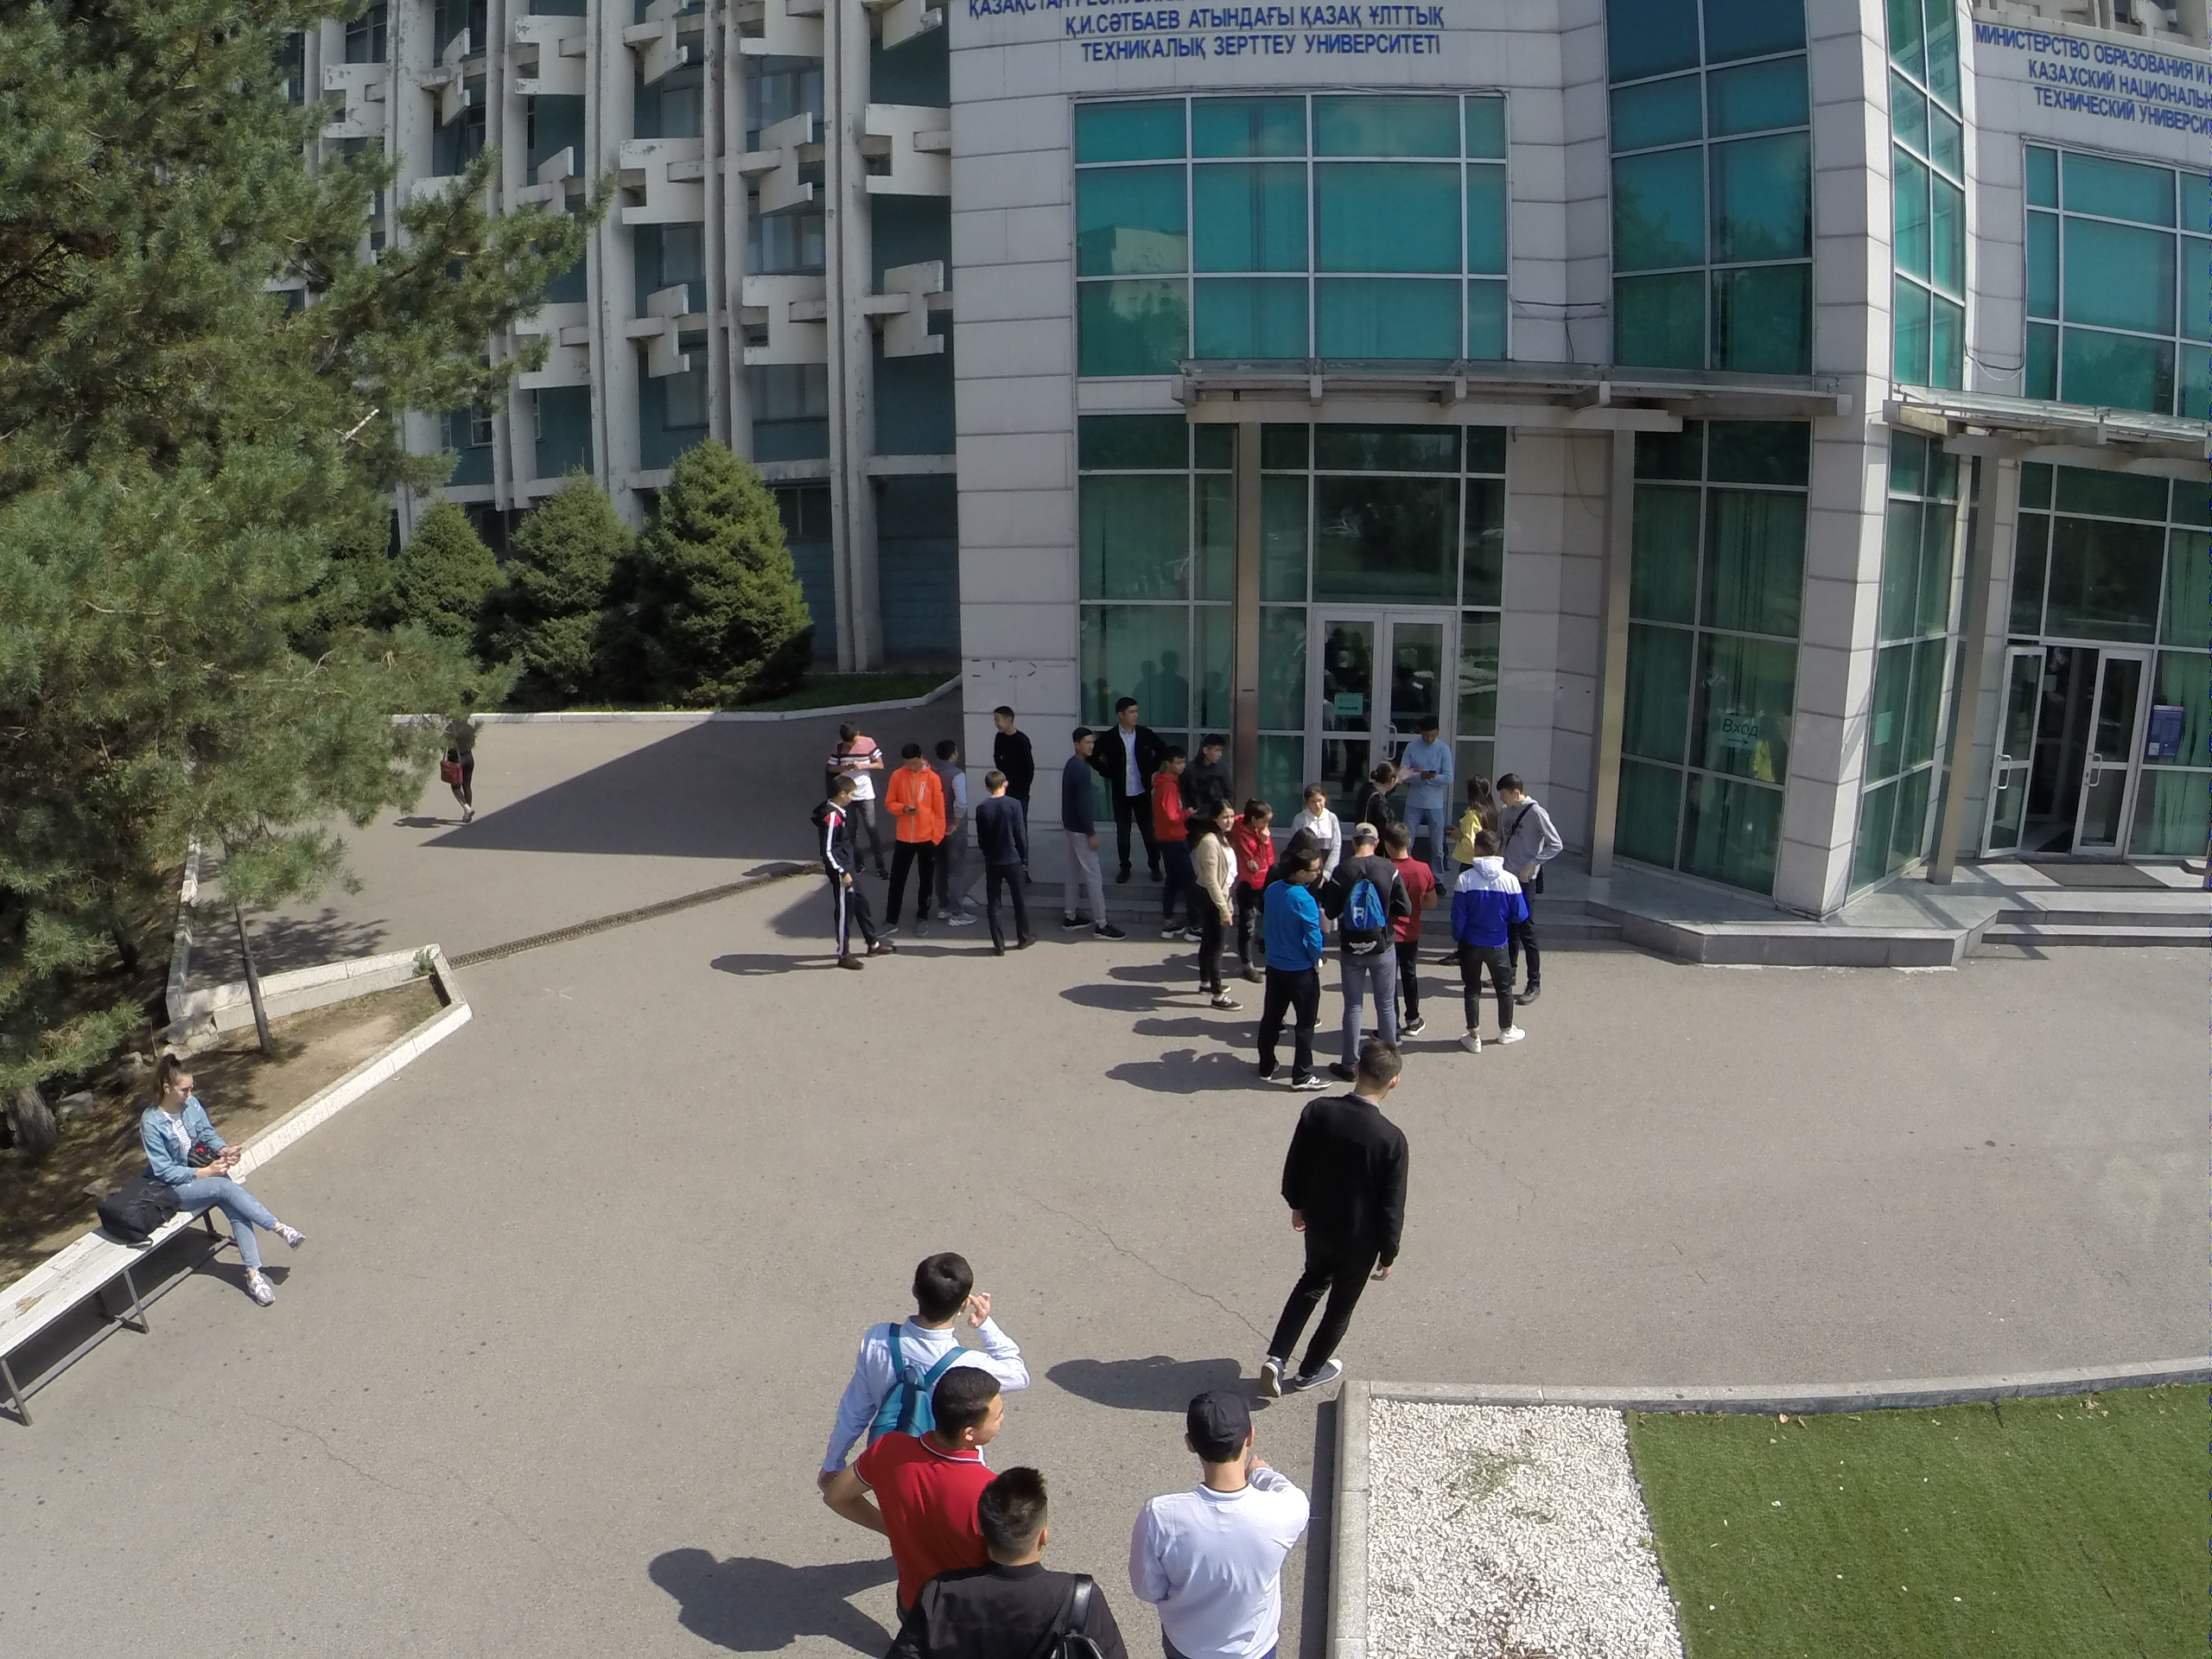person: (1237, 1040, 1427, 1409), (139, 1052, 290, 1314), (1443, 827, 1529, 1062), (1491, 778, 1566, 1015), (1332, 829, 1402, 1082), (1256, 847, 1322, 1084), (978, 772, 1044, 962), (1063, 724, 1119, 944), (1370, 819, 1423, 1048), (881, 744, 941, 937), (815, 772, 868, 972), (1150, 747, 1204, 944), (1109, 697, 1157, 886), (1196, 800, 1237, 1013), (928, 747, 973, 923), (840, 721, 887, 880), (1405, 707, 1452, 847), (442, 709, 478, 827), (1352, 756, 1409, 821), (1289, 781, 1338, 841), (1243, 803, 1269, 907), (994, 706, 1027, 789), (1189, 734, 1223, 808)
